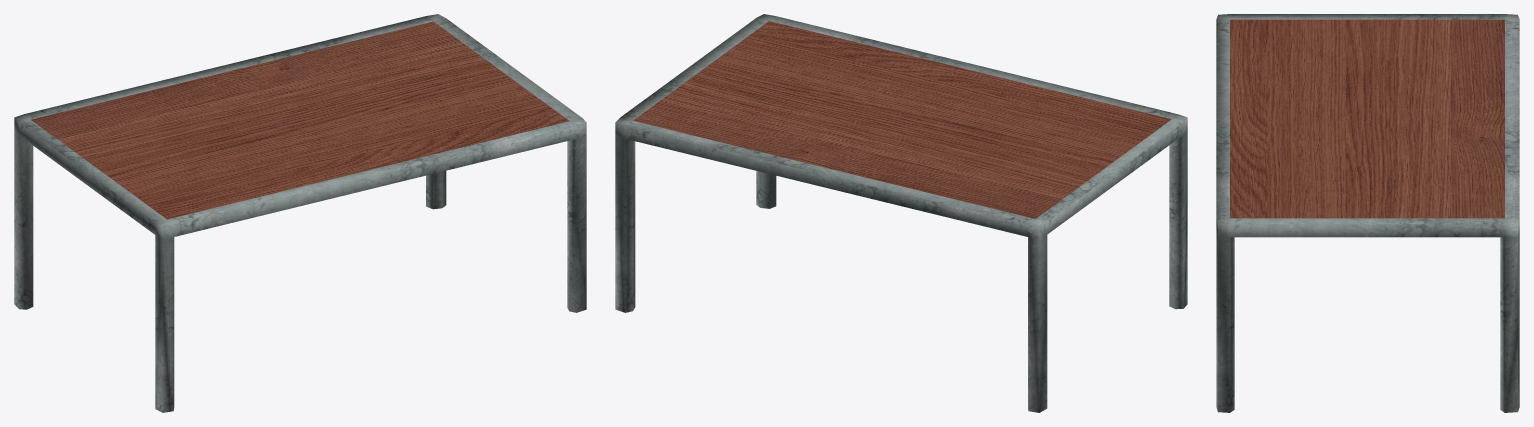
File: table02.obj
The picture shows the model from 3 angles, left to right: view 1: azimuth 30°, elevation 25°; view 2: azimuth 150°, elevation 25°; view 3: azimuth 270°, elevation 25°; orthographic projection.
Parts seen in each view (by area): view 1: mesh; view 2: mesh; view 3: mesh.
Boxes of the visible parts, x1,y1,x2,y2 form: mesh: (14, 14, 586, 412); mesh: (615, 14, 1187, 412); mesh: (1216, 14, 1519, 412).
Bounding box in the file's own units: 81.48 × 34.04 × 49.68.
1 material, 1 textured.
